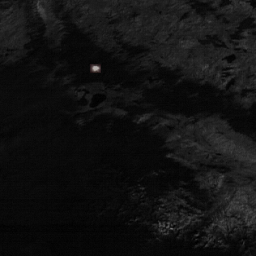Target: (91, 64, 100, 72)
